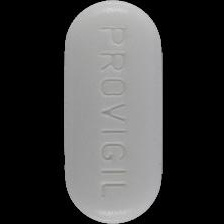63459-201: (0, 0, 224, 224)
